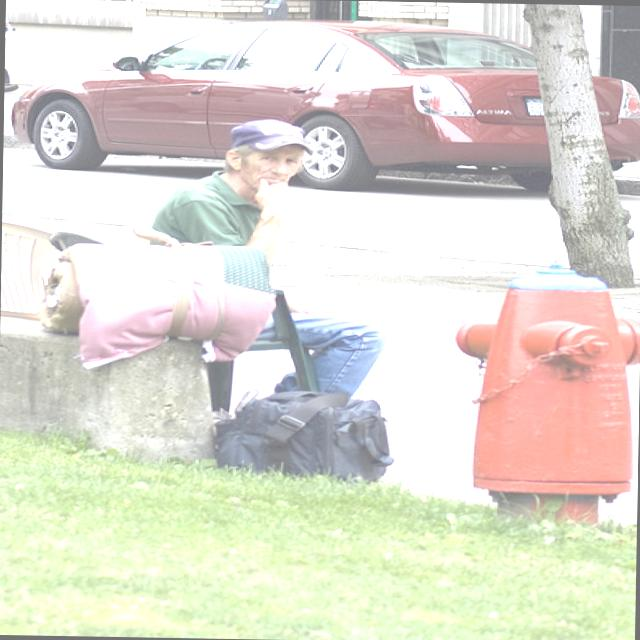Vehicle: (5, 10, 640, 183)
